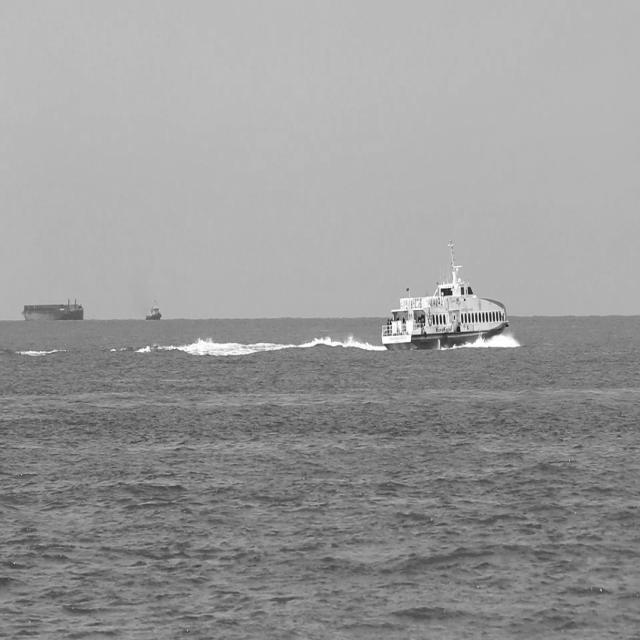ship: (376, 230, 514, 354), (20, 292, 86, 322), (142, 294, 164, 322)
